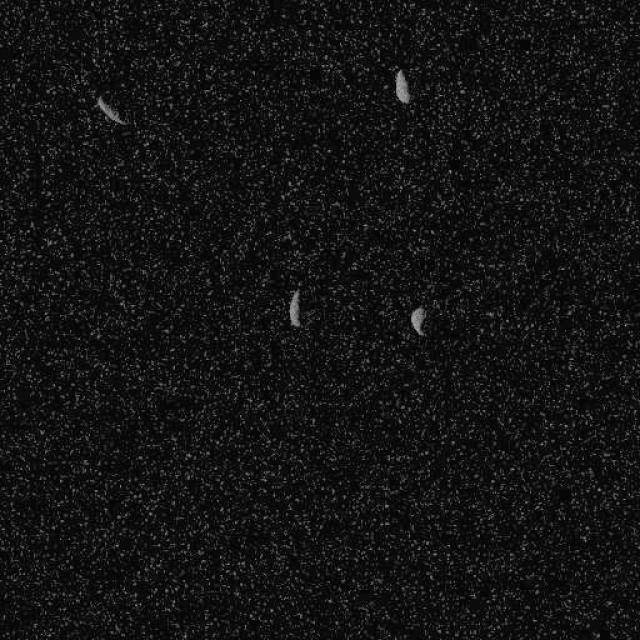D2: (94, 94, 128, 126), (408, 305, 428, 336), (394, 68, 410, 104), (288, 288, 302, 328)
